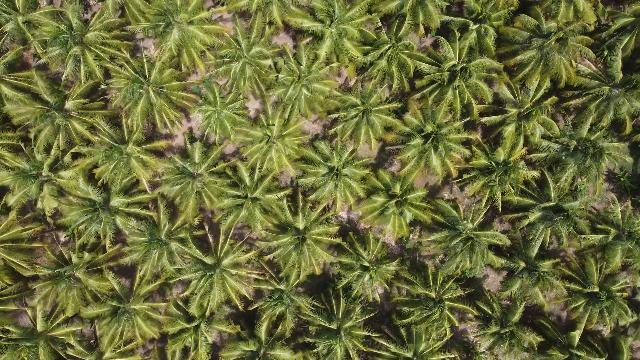trees: (9, 239, 129, 341), (8, 3, 126, 93), (4, 70, 107, 166), (383, 261, 483, 358), (498, 9, 605, 98), (548, 245, 638, 349), (174, 226, 269, 319), (255, 194, 346, 291), (233, 95, 317, 190), (417, 199, 509, 285), (534, 120, 631, 201), (127, 3, 231, 76), (84, 118, 176, 200), (100, 54, 187, 139), (263, 41, 341, 134), (416, 31, 500, 115), (154, 142, 235, 229), (507, 185, 599, 261), (396, 104, 478, 189), (214, 154, 295, 240), (113, 200, 193, 286), (211, 18, 288, 107), (54, 172, 133, 254), (323, 83, 405, 162), (298, 3, 385, 77), (293, 288, 381, 360), (331, 228, 407, 309), (464, 135, 543, 212), (301, 138, 380, 215), (355, 165, 432, 243), (496, 235, 573, 312), (464, 291, 547, 360), (479, 83, 560, 149), (445, 3, 522, 65), (189, 83, 252, 149), (227, 3, 314, 41), (2, 210, 47, 259)
